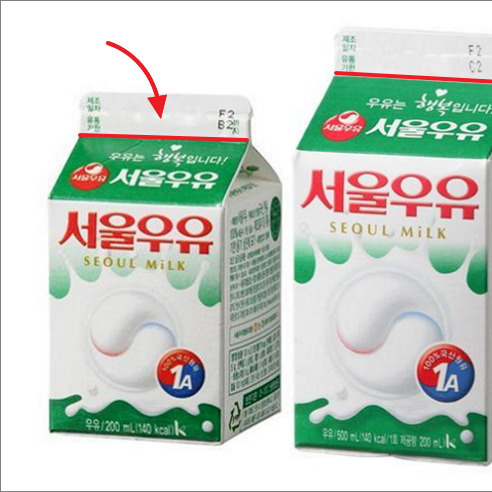milk: (292, 25, 492, 467), (46, 93, 283, 443)
